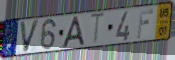4: (115, 9, 131, 42)
6: (40, 17, 57, 51)
A: (61, 15, 86, 49)
F: (136, 9, 155, 40)
T: (89, 12, 107, 46)
V: (19, 19, 41, 54)
